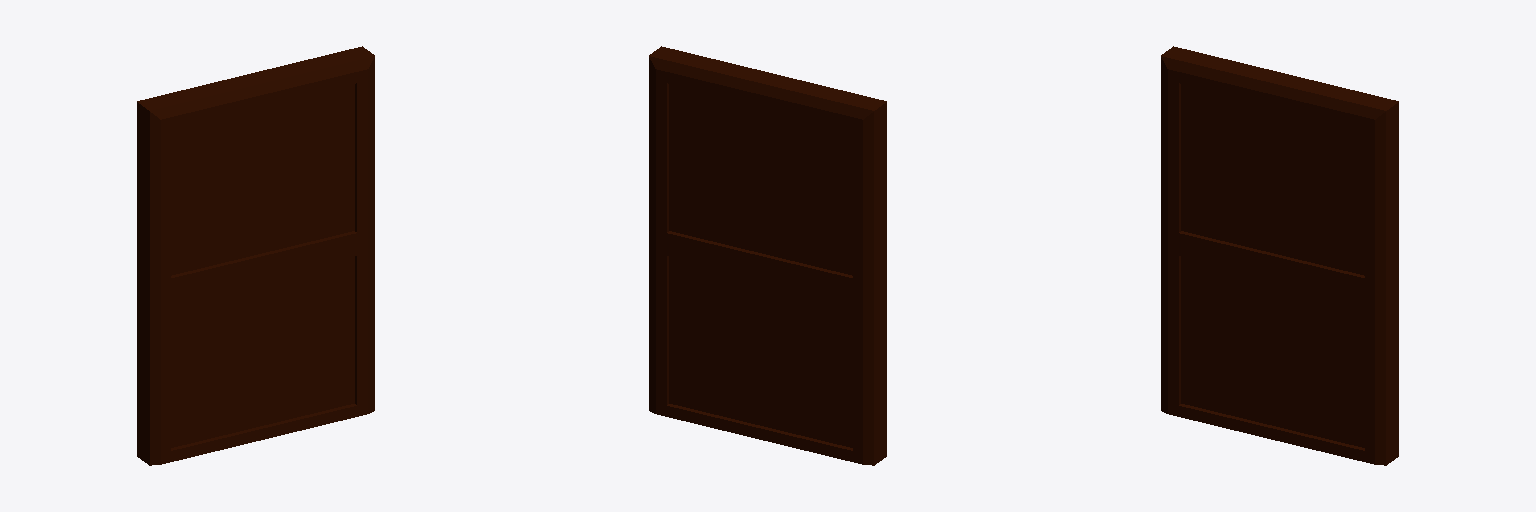
File: 4x4_wall_door.obj
The picture shows the model from 3 angles: view 1: azimuth 30°, elevation 25°; view 2: azimuth 150°, elevation 25°; view 3: azimuth 330°, elevation 25°; orthographic projection.
Visible parts, largest first — view 1: door; view 2: door; view 3: door.
Boxes of the visible parts, x1,y1,x2,y2 form: door: [137, 46, 374, 465]; door: [649, 46, 886, 465]; door: [1161, 46, 1398, 465].
Size of the model in its own units: 2 by 3 by 0.26.